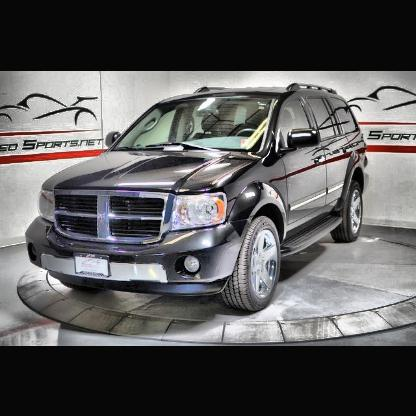Dodge Durango SUV 2007: (27, 87, 369, 316)
